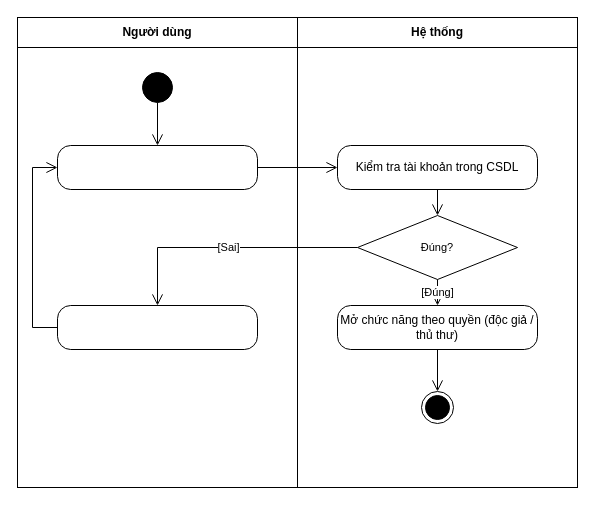
This 595x505 diagram has some shape labels left out. The shapes that lost their labels are listed below. From the top down, each one's centre as x and y in pixels, then its label:
(x=157, y=167): Nhập tên đăng nhập, mật khẩu
(x=157, y=327): Thông báo sai thông tin đăng nhập
